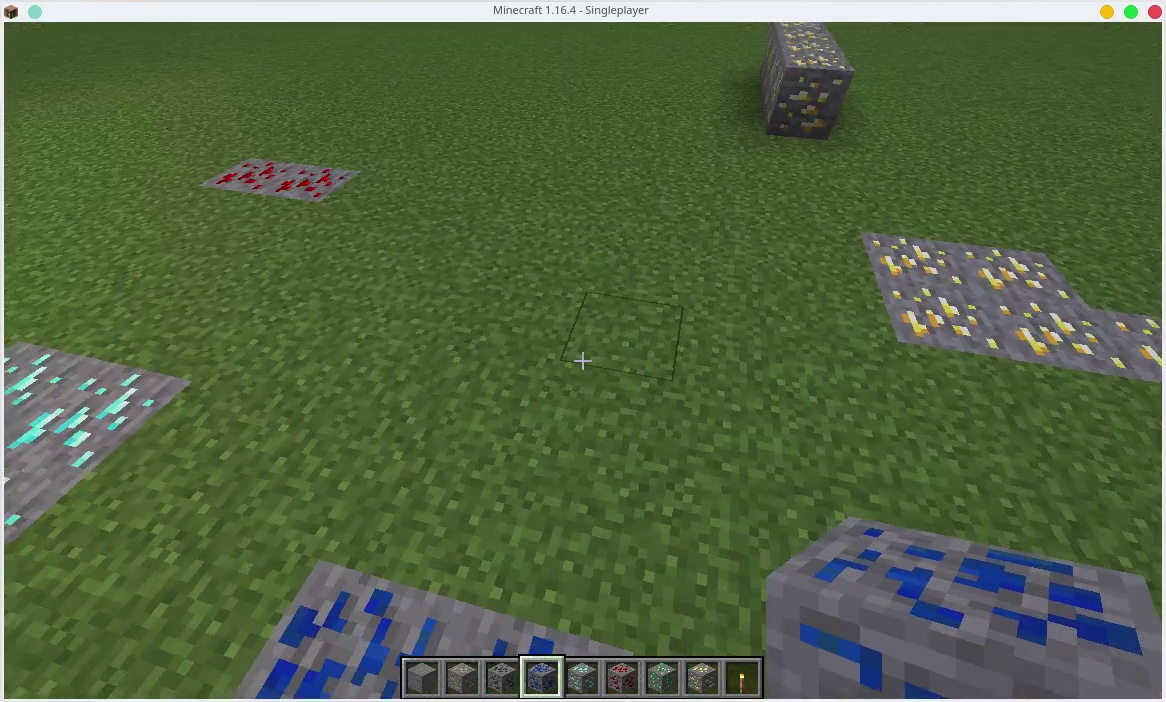gold: (883, 291, 1007, 358), (1012, 304, 1120, 378), (974, 240, 1076, 301), (860, 231, 964, 287), (768, 51, 834, 129), (1123, 312, 1163, 383), (767, 29, 835, 45), (687, 663, 719, 696), (759, 23, 820, 31)
